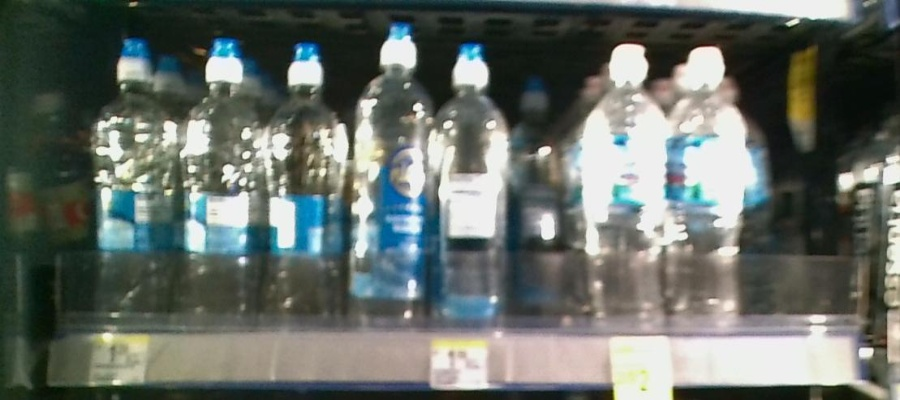bottle: (88, 28, 176, 324), (582, 47, 668, 333), (265, 30, 347, 326), (183, 27, 261, 328), (354, 23, 430, 329), (434, 33, 511, 332), (674, 43, 744, 318), (516, 73, 570, 333)
